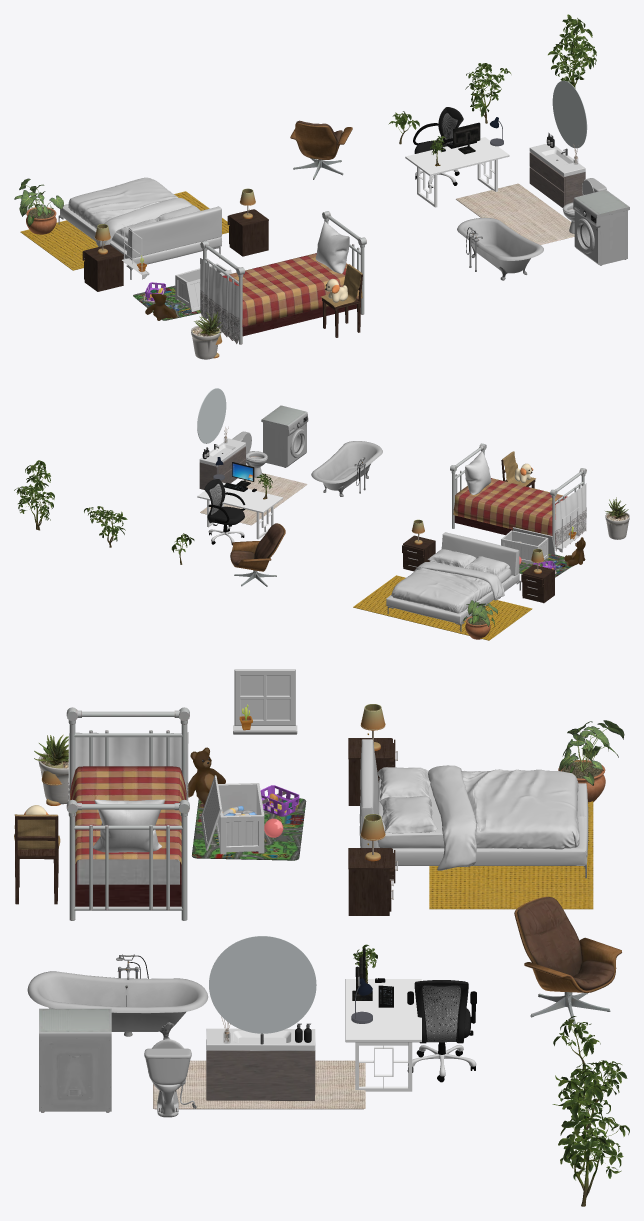
Rendered from etage.glb.
The picture shows the model from 3 angles, top to bottom: view 1: azimuth 30°, elevation 25°; view 2: azimuth 150°, elevation 25°; view 3: azimuth 270°, elevation 25°; orthographic projection. The views are drawn at different scales.
Parts seen in each view (by area): view 1: BabyBed_BabyBed_0, Object_1_Material_2_0, Object_25, Cylinder007_T_Washing_Machine_1_0, Bedside_Table_2_LP_Bedside_Table_1_0, SM_Bathtub_Material_#3_0, pachira_aquatica_01_leaves_a, Plane_Material001_0, bureau__mid_century_lounge_chair, bureau__Object_4, Object_22, Object_51 (+14 smaller); view 2: Object_1_Material_2_0, BabyBed_BabyBed_0, Plane_Material001_0, Cylinder007_T_Washing_Machine_1_0, SM_Bathtub_Material_#3_0, Bedside_Table_2_LP_Bedside_Table_1_0, pachira_aquatica_01_leaves_a, bureau__mid_century_lounge_chair, WindowSil_Mat_Box_0, Object_25, Object_22, bureau__Object_1_Material_2_0 (+14 smaller); view 3: Object_1_Material_2_0, BabyBed_BabyBed_0, WindowSil_Mat_Box_0, Object_22, SM_Bathtub_Material_#3_0, Cylinder007_T_Washing_Machine_1_0, bureau__mid_century_lounge_chair, Plane_Material001_0, Object_51, pachira_aquatica_01_leaves_a, Object_25, Bedside_Table_2_LP_Bedside_Table_1_0 (+16 smaller).
Boxes of the visible parts, box(x1,y1,x2,y2) form: BabyBed_BabyBed_0: box(200, 211, 366, 344); Object_1_Material_2_0: box(58, 177, 221, 279); Object_25: box(456, 183, 574, 244); Cylinder007_T_Washing_Machine_1_0: box(573, 190, 629, 265); Bedside_Table_2_LP_Bedside_Table_1_0: box(82, 209, 268, 291); SM_Bathtub_Material_#3_0: box(457, 217, 543, 280); pachira_aquatica_01_leaves_a: box(465, 14, 596, 116); Plane_Material001_0: box(20, 191, 229, 270); bureau__mid_century_lounge_chair: box(290, 120, 352, 179); bureau__Object_4: box(405, 137, 509, 175); Object_22: box(552, 80, 587, 148); Object_51: box(529, 152, 585, 207); Object_1_Material_2_0: box(386, 532, 520, 631); BabyBed_BabyBed_0: box(450, 443, 586, 551); Plane_Material001_0: box(353, 575, 532, 640); Cylinder007_T_Washing_Machine_1_0: box(261, 405, 308, 467); SM_Bathtub_Material_#3_0: box(311, 441, 382, 496); Bedside_Table_2_LP_Bedside_Table_1_0: box(402, 535, 554, 603); pachira_aquatica_01_leaves_a: box(14, 460, 127, 541); bureau__mid_century_lounge_chair: box(230, 523, 285, 586); WindowSil_Mat_Box_0: box(501, 507, 578, 573); Object_25: box(200, 473, 307, 525); Object_22: box(197, 388, 226, 443); bureau__Object_1_Material_2_0: box(204, 479, 245, 545); Object_1_Material_2_0: box(359, 739, 588, 878); BabyBed_BabyBed_0: box(66, 707, 189, 920); WindowSil_Mat_Box_0: box(201, 669, 299, 854); Object_22: box(209, 936, 316, 1033); SM_Bathtub_Material_#3_0: box(27, 954, 208, 1039); Cylinder007_T_Washing_Machine_1_0: box(39, 1008, 111, 1112); bureau__mid_century_lounge_chair: box(514, 896, 621, 1026); Plane_Material001_0: box(429, 801, 593, 909); Object_51: box(206, 1050, 315, 1100); pachira_aquatica_01_leaves_a: box(552, 1060, 629, 1180); Object_25: box(153, 1060, 365, 1109); Bedside_Table_2_LP_Bedside_Table_1_0: box(348, 738, 395, 915).
Bounding box in the file's own units: 9.81 × 1.95 × 5.79.
38 materials, 36 textured.
